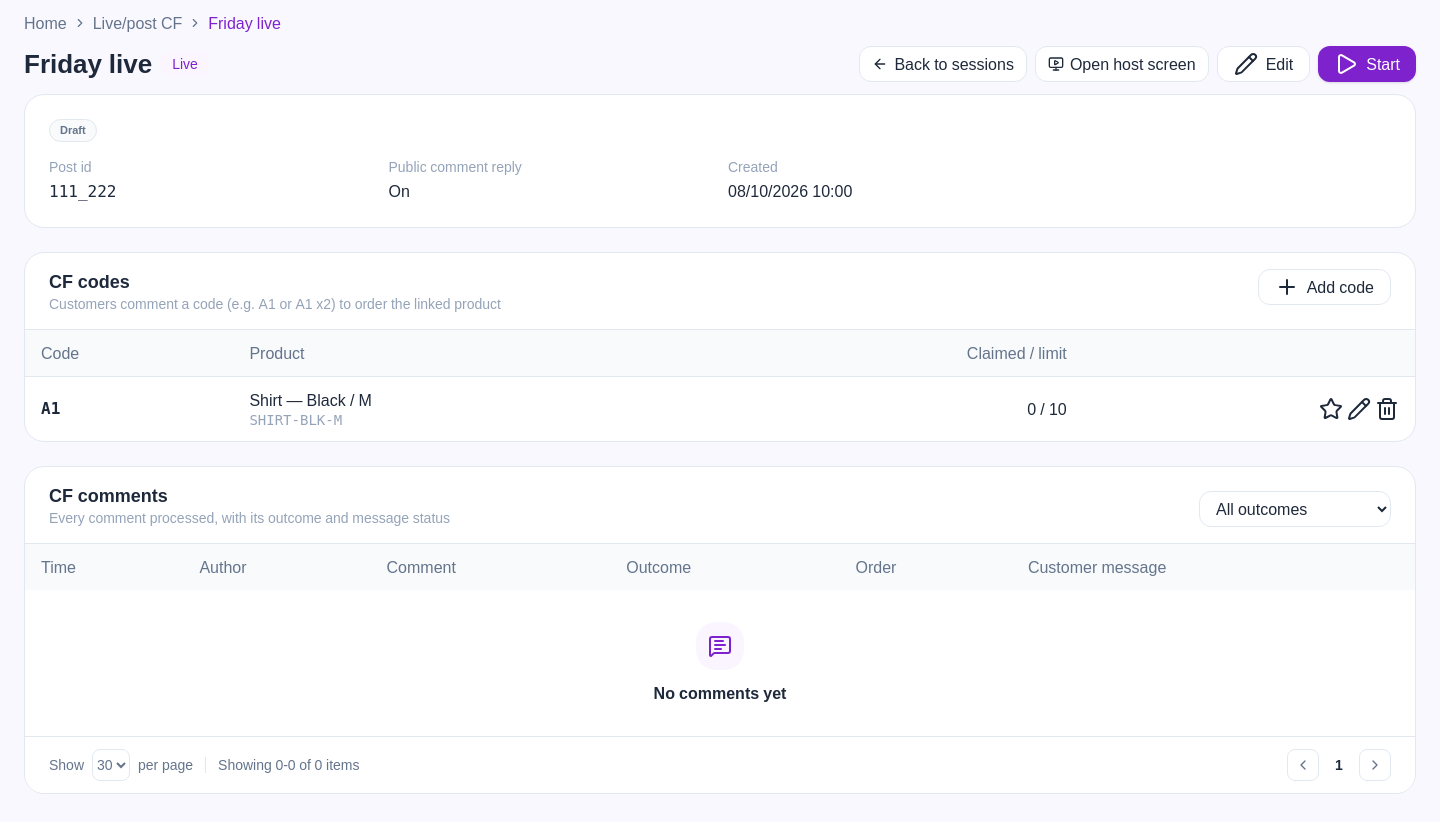
it: SessionDetail › DRAFT ພ້ອມ: ກົດເລີ່ມ → POST /start ແລ້ວສະແດງ LIVE + ປຸ່ມຈົບ + ຂໍ້ຄວາມ poll
Click the button "Start" at (1367, 64), box [1318,46,1416,82]
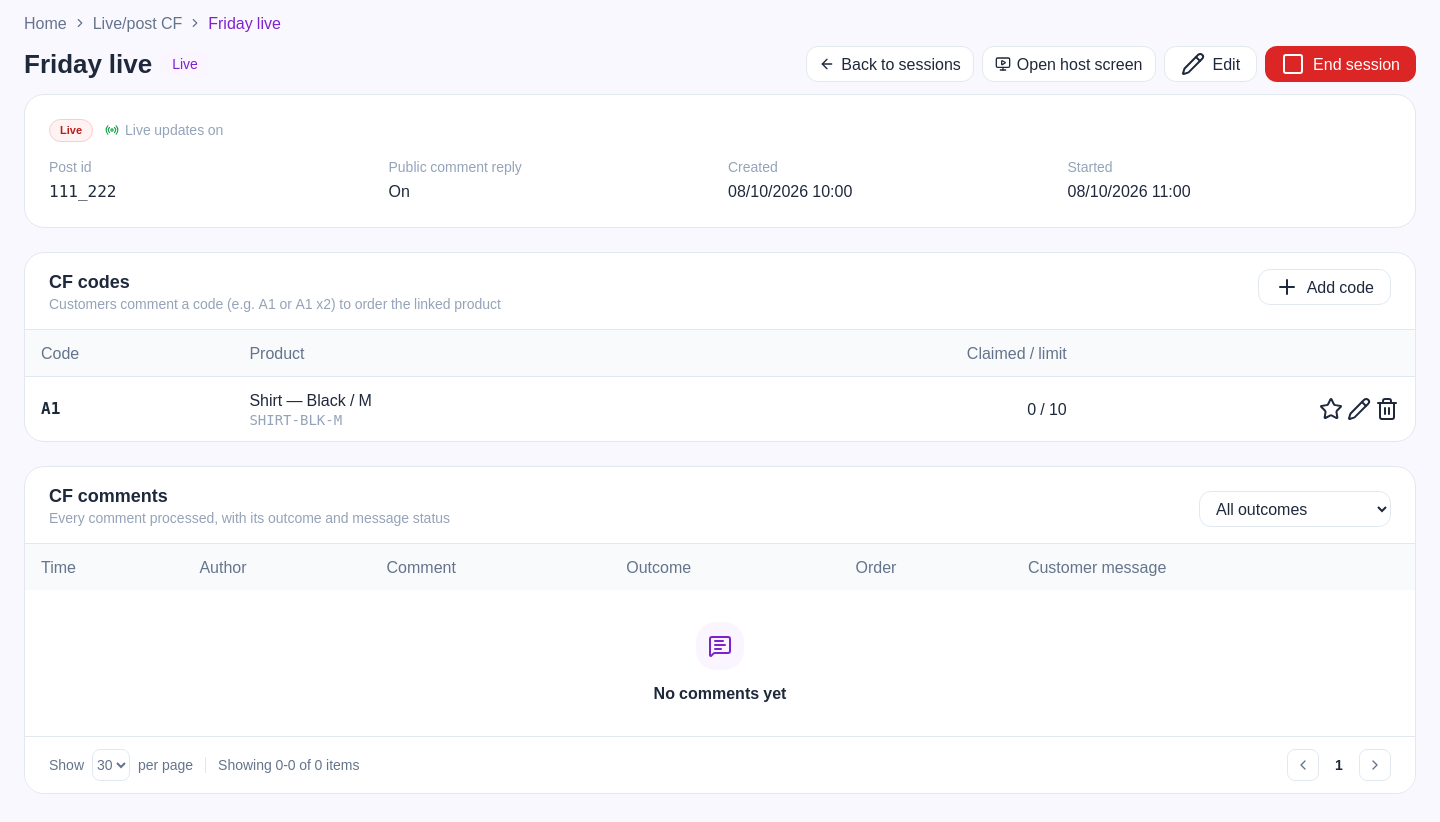
Now the button "End session" is shown, box [1265,46,1416,82]
Now the text "Live updates on" is shown, box [105,121,223,139]
